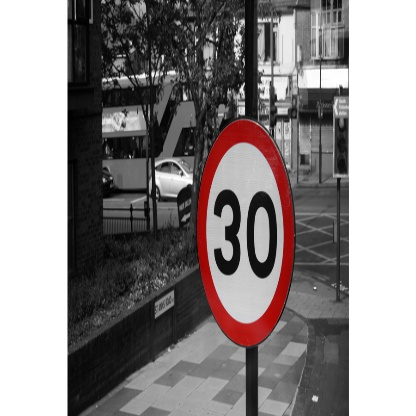limit2: (195, 117, 297, 351)
